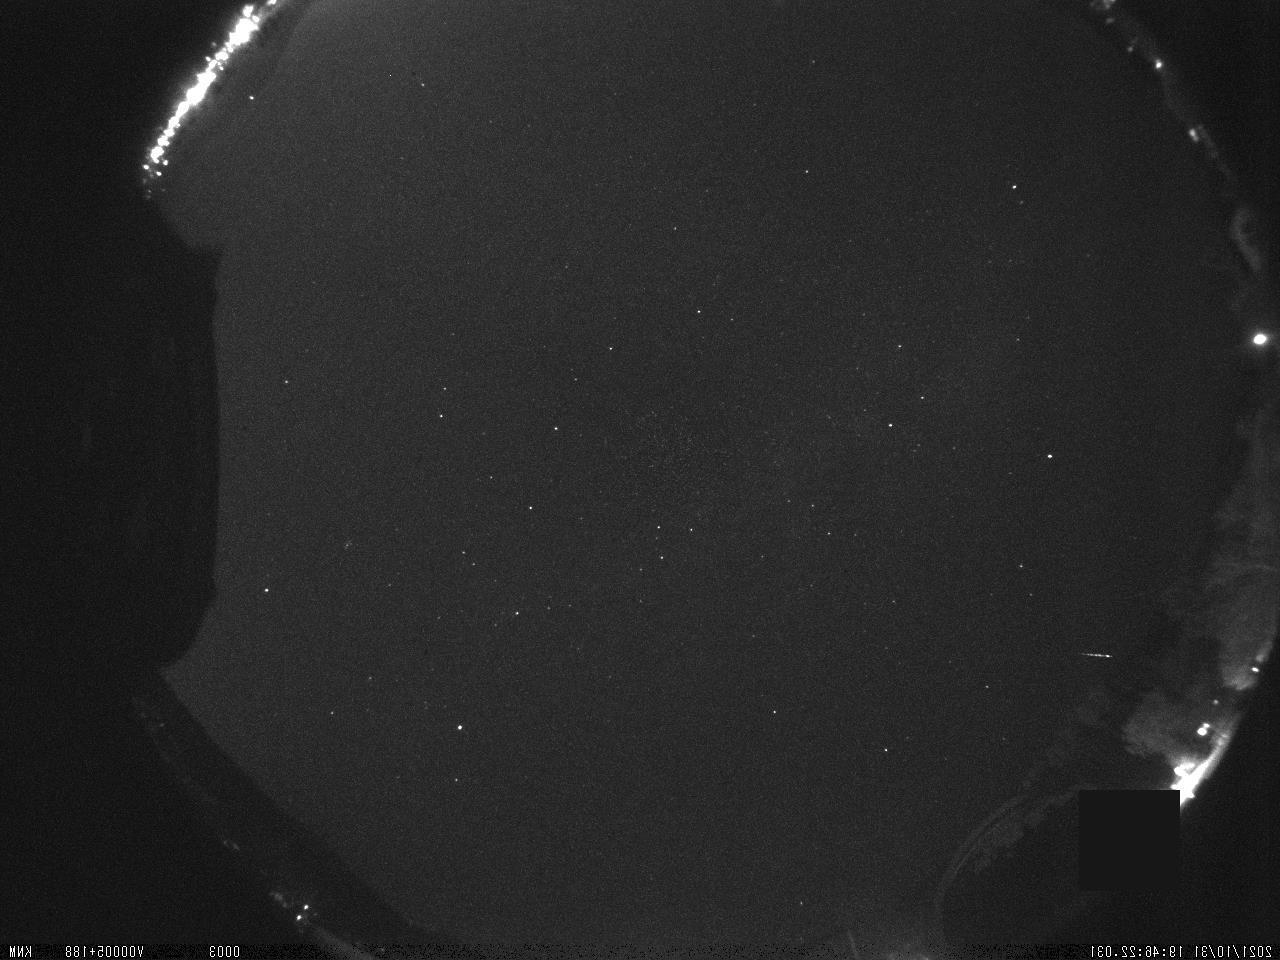meteor: (1069, 648, 1127, 671)
